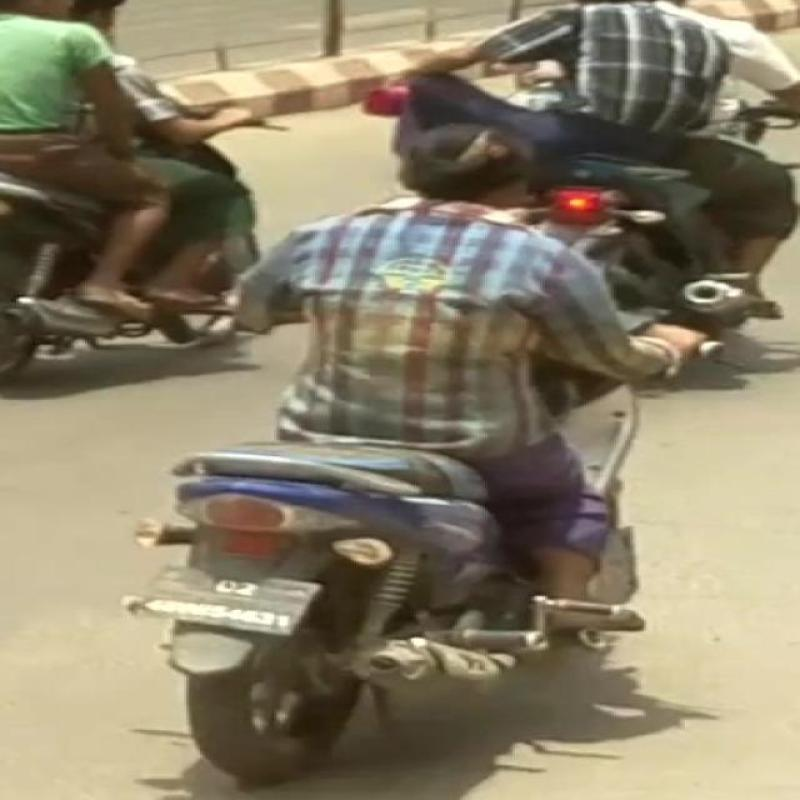nohelmet: (356, 115, 594, 214)
